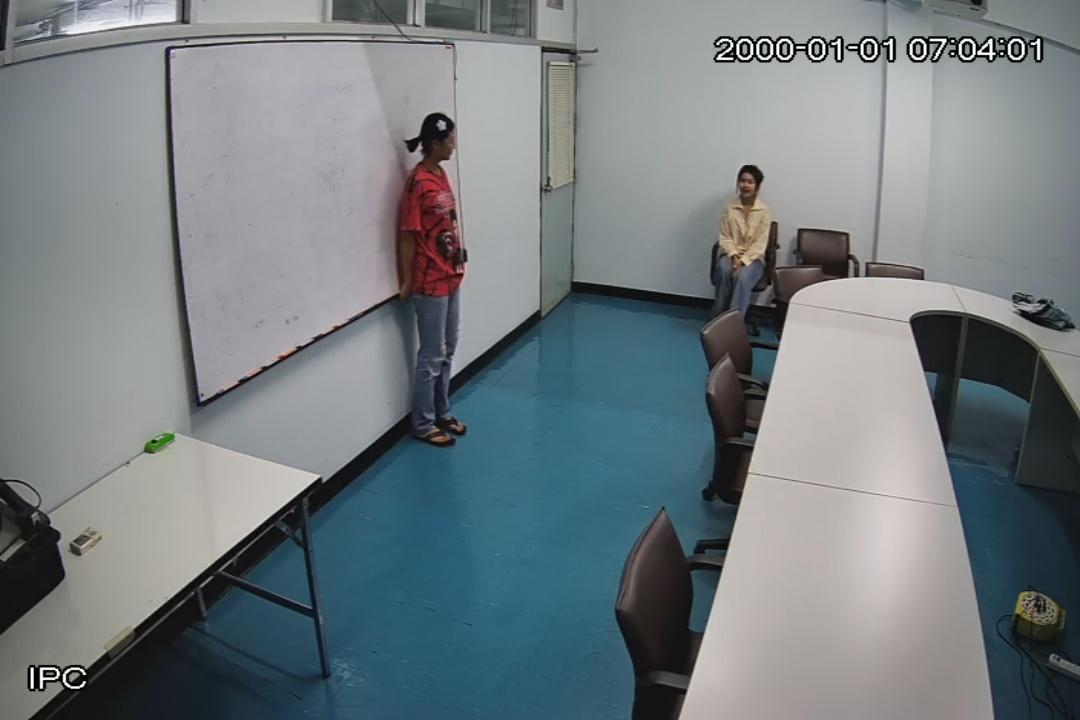normal: (394, 109, 471, 442), (711, 165, 772, 338)
